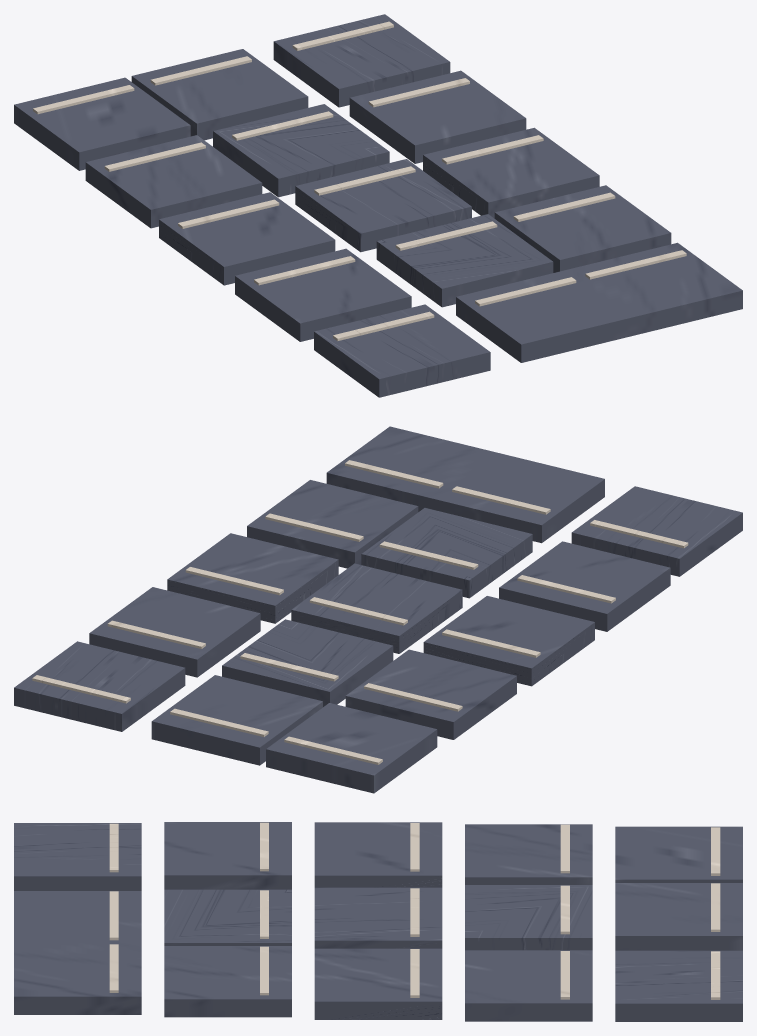
File: dojo_ceremonial_stones_lod0.glb
3 renders of one model, top to bottom at view 1: azimuth 30°, elevation 25°; view 2: azimuth 150°, elevation 25°; view 3: azimuth 270°, elevation 25°, orthographic. The views are drawn at different scales.
Parts seen in each view (by area): view 1: dojo_ceremonial_stones_024, dojo_ceremonial_stones_026, dojo_ceremonial_stones_014, dojo_ceremonial_stones_020, dojo_ceremonial_stones_018, dojo_ceremonial_stones_004, dojo_ceremonial_stones_012, dojo_ceremonial_stones_006, dojo_ceremonial_stones_010, dojo_ceremonial_stones_000, dojo_ceremonial_stones_008, dojo_ceremonial_stones_016 (+18 smaller); view 2: dojo_ceremonial_stones_004, dojo_ceremonial_stones_000, dojo_ceremonial_stones_006, dojo_ceremonial_stones_012, dojo_ceremonial_stones_018, dojo_ceremonial_stones_010, dojo_ceremonial_stones_002, dojo_ceremonial_stones_024, dojo_ceremonial_stones_026, dojo_ceremonial_stones_020, dojo_ceremonial_stones_014, dojo_ceremonial_stones_016 (+18 smaller); view 3: dojo_ceremonial_stones_016, dojo_ceremonial_stones_028, dojo_ceremonial_stones_004, dojo_ceremonial_stones_010, dojo_ceremonial_stones_022, dojo_ceremonial_stones_024, dojo_ceremonial_stones_002, dojo_ceremonial_stones_018, dojo_ceremonial_stones_012, dojo_ceremonial_stones_008, dojo_ceremonial_stones_014, dojo_ceremonial_stones_006 (+18 smaller).
Boxes of the visible parts, left/top/right/bottom form: dojo_ceremonial_stones_024: left=314, top=304, right=490, bottom=397; dojo_ceremonial_stones_026: left=456, top=270, right=632, bottom=362; dojo_ceremonial_stones_014: left=295, top=159, right=471, bottom=252; dojo_ceremonial_stones_020: left=376, top=214, right=553, bottom=307; dojo_ceremonial_stones_018: left=235, top=248, right=411, bottom=341; dojo_ceremonial_stones_004: left=273, top=14, right=450, bottom=107; dojo_ceremonial_stones_012: left=159, top=192, right=335, bottom=285; dojo_ceremonial_stones_006: left=85, top=135, right=262, bottom=228; dojo_ceremonial_stones_010: left=349, top=70, right=526, bottom=163; dojo_ceremonial_stones_000: left=14, top=77, right=190, bottom=170; dojo_ceremonial_stones_008: left=213, top=104, right=389, bottom=197; dojo_ceremonial_stones_016: left=423, top=127, right=599, bottom=218; dojo_ceremonial_stones_004: left=14, top=641, right=185, bottom=731; dojo_ceremonial_stones_000: left=266, top=703, right=437, bottom=793; dojo_ceremonial_stones_006: left=345, top=649, right=516, bottom=739; dojo_ceremonial_stones_012: left=423, top=596, right=594, bottom=686; dojo_ceremonial_stones_018: left=499, top=541, right=670, bottom=631; dojo_ceremonial_stones_010: left=89, top=587, right=260, bottom=677; dojo_ceremonial_stones_002: left=151, top=675, right=322, bottom=765; dojo_ceremonial_stones_024: left=571, top=486, right=742, bottom=576; dojo_ceremonial_stones_026: left=433, top=452, right=604, bottom=543; dojo_ceremonial_stones_020: left=361, top=508, right=532, bottom=598; dojo_ceremonial_stones_014: left=291, top=563, right=462, bottom=653; dojo_ceremonial_stones_016: left=167, top=533, right=338, bottom=623; dojo_ceremonial_stones_016: left=314, top=948, right=442, bottom=1019; dojo_ceremonial_stones_028: left=14, top=943, right=141, bottom=1014; dojo_ceremonial_stones_004: left=615, top=950, right=742, bottom=1021; dojo_ceremonial_stones_010: left=465, top=950, right=592, bottom=1021; dojo_ceremonial_stones_022: left=164, top=946, right=291, bottom=1017; dojo_ceremonial_stones_024: left=14, top=823, right=141, bottom=890; dojo_ceremonial_stones_002: left=615, top=883, right=742, bottom=950; dojo_ceremonial_stones_018: left=164, top=822, right=291, bottom=889; dojo_ceremonial_stones_012: left=314, top=822, right=442, bottom=887; dojo_ceremonial_stones_008: left=465, top=885, right=592, bottom=950; dojo_ceremonial_stones_014: left=314, top=887, right=442, bottom=948; dojo_ceremonial_stones_006: left=465, top=824, right=592, bottom=884.
Bounding box in the file's own units: 4.72 × 0.255 × 8.
2 materials, 2 textured.
